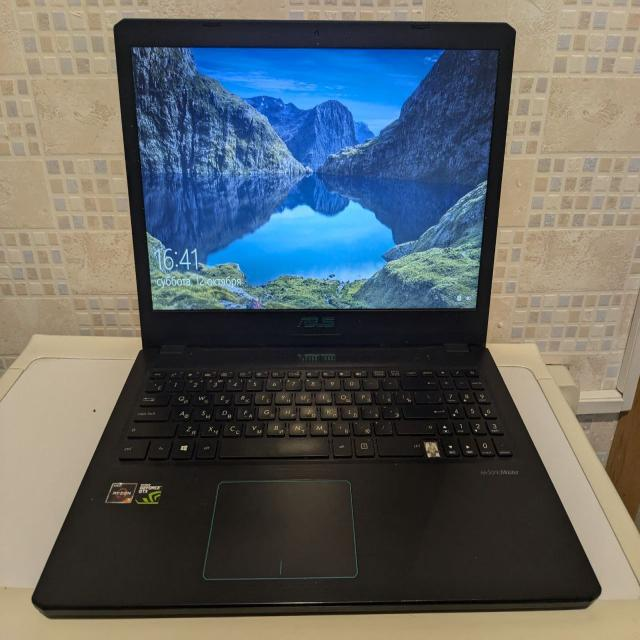missing_key: (424, 437, 442, 460)
